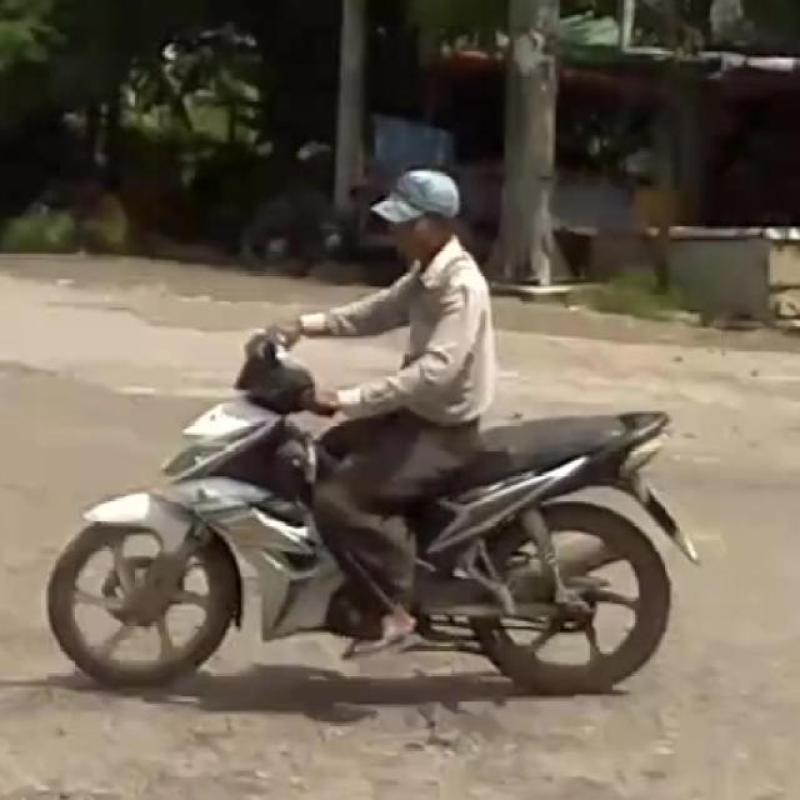nohelmet: (331, 138, 525, 330)
